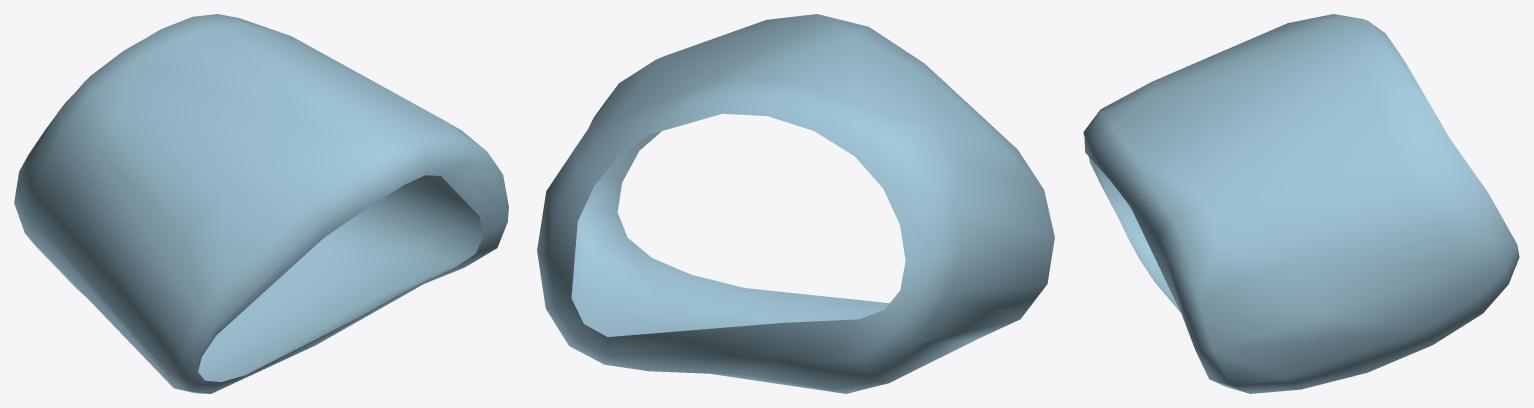
Rendered from articulacoes-articular-capsule-of-interphalangeal-joint-of-great-toe-l.glb.
The picture shows the model from 3 angles, left to right: view 1: azimuth 30°, elevation 25°; view 2: azimuth 150°, elevation 25°; view 3: azimuth 270°, elevation 25°; orthographic projection. The views are drawn at different scales.
Visible parts, largest first — view 1: Articular capsule of interphalangeal joint of great toe.l; view 2: Articular capsule of interphalangeal joint of great toe.l; view 3: Articular capsule of interphalangeal joint of great toe.l.
Part boxes in pixels (left/top/right/bottom): Articular capsule of interphalangeal joint of great toe.l: left=14, top=14, right=508, bottom=393; Articular capsule of interphalangeal joint of great toe.l: left=537, top=14, right=1054, bottom=393; Articular capsule of interphalangeal joint of great toe.l: left=1083, top=14, right=1519, bottom=393.
Size of the model in its own units: 0.0211 by 0.0138 by 0.0193.
